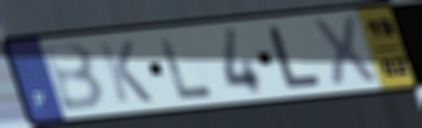4: (221, 25, 263, 97)
B: (39, 40, 110, 114)
K: (96, 38, 156, 105)
L: (155, 32, 217, 103), (265, 24, 325, 90)
X: (307, 13, 380, 90)
